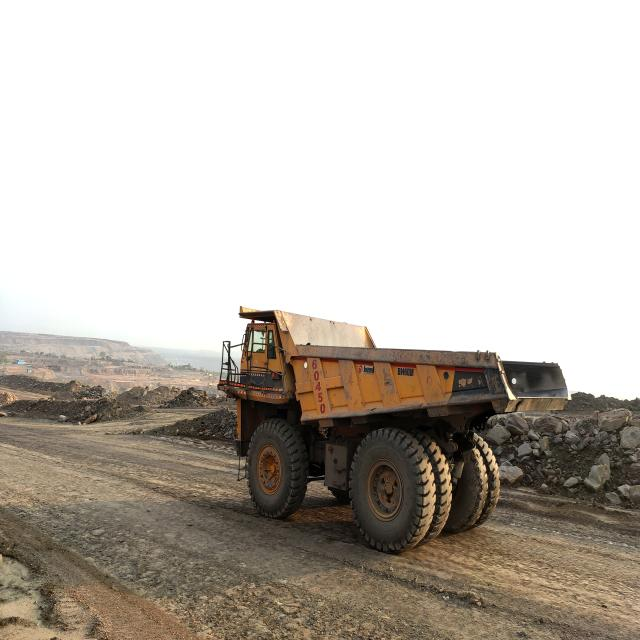dump_truck: (220, 307, 569, 550)
